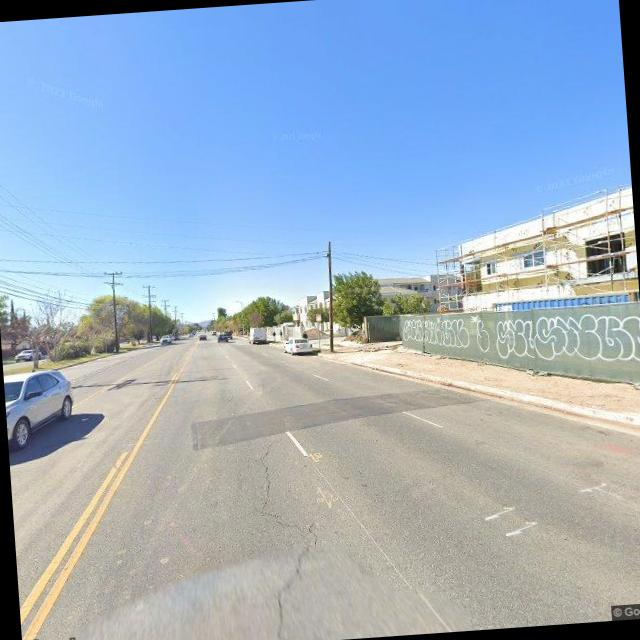pothole: (243, 410, 320, 640)
